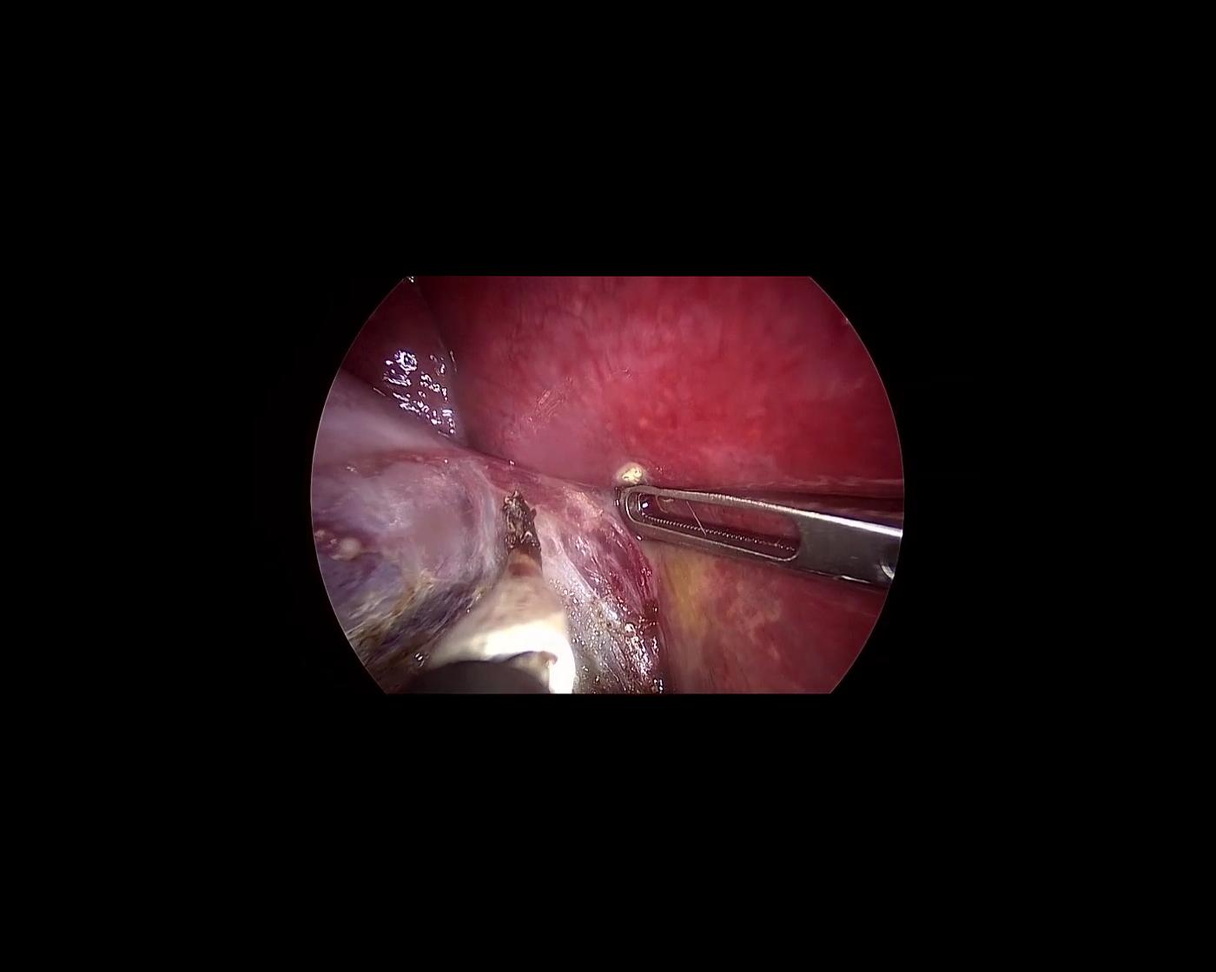Forceps: (604, 469, 904, 595)
Liver: (334, 81, 1023, 770), (209, 355, 546, 691)
